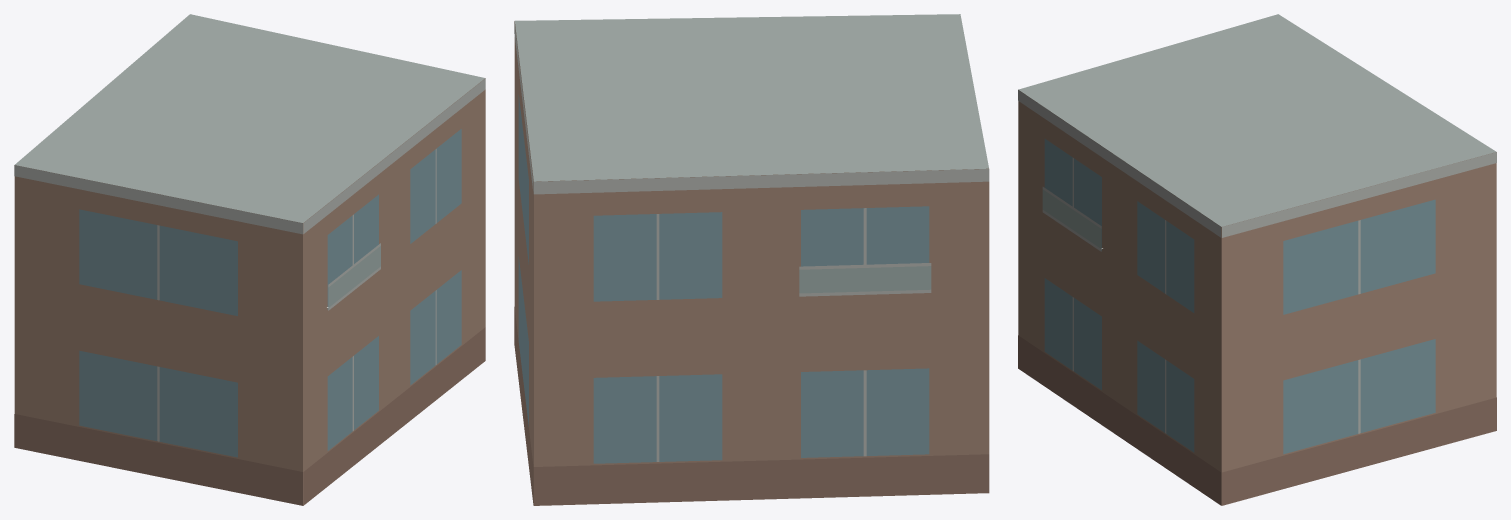
Rendered from survey-upis-32603786.glb.
3 views of the same model, side by side, from view 1: azimuth 30°, elevation 25°; view 2: azimuth 150°, elevation 25°; view 3: azimuth 270°, elevation 25° (orthographic). The views are drawn at different scales.
Visible parts, largest first — view 1: survey-upis-32603786.tmp; view 2: survey-upis-32603786.tmp; view 3: survey-upis-32603786.tmp.
Part boxes in pixels (left/top/right/bottom): survey-upis-32603786.tmp: left=14, top=14, right=485, bottom=505; survey-upis-32603786.tmp: left=514, top=14, right=989, bottom=505; survey-upis-32603786.tmp: left=1018, top=14, right=1496, bottom=505.
Size of the model in its own units: 10 by 6.1 by 9.5.
